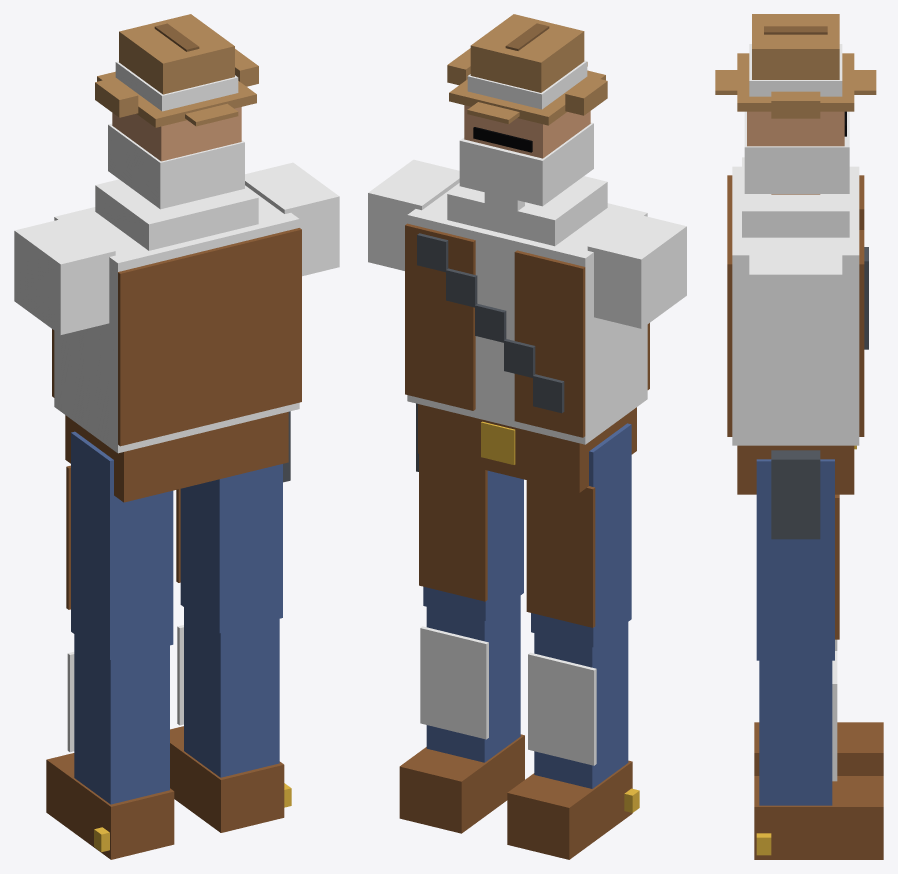
The model's file is BANDIT.gltf.
The picture shows the model from 3 angles, left to right: view 1: azimuth 30°, elevation 25°; view 2: azimuth 150°, elevation 25°; view 3: azimuth 270°, elevation 25°; orthographic projection. The views are drawn at different scales.
Visible parts, largest first — view 1: BANDIT; view 2: BANDIT; view 3: BANDIT.
Part boxes in pixels (<box>): BANDIT: <box>14,14,339,859</box>; BANDIT: <box>368,14,686,859</box>; BANDIT: <box>715,14,883,859</box>.
Bounding box in the file's own units: 0.66 × 1.78 × 0.345.
